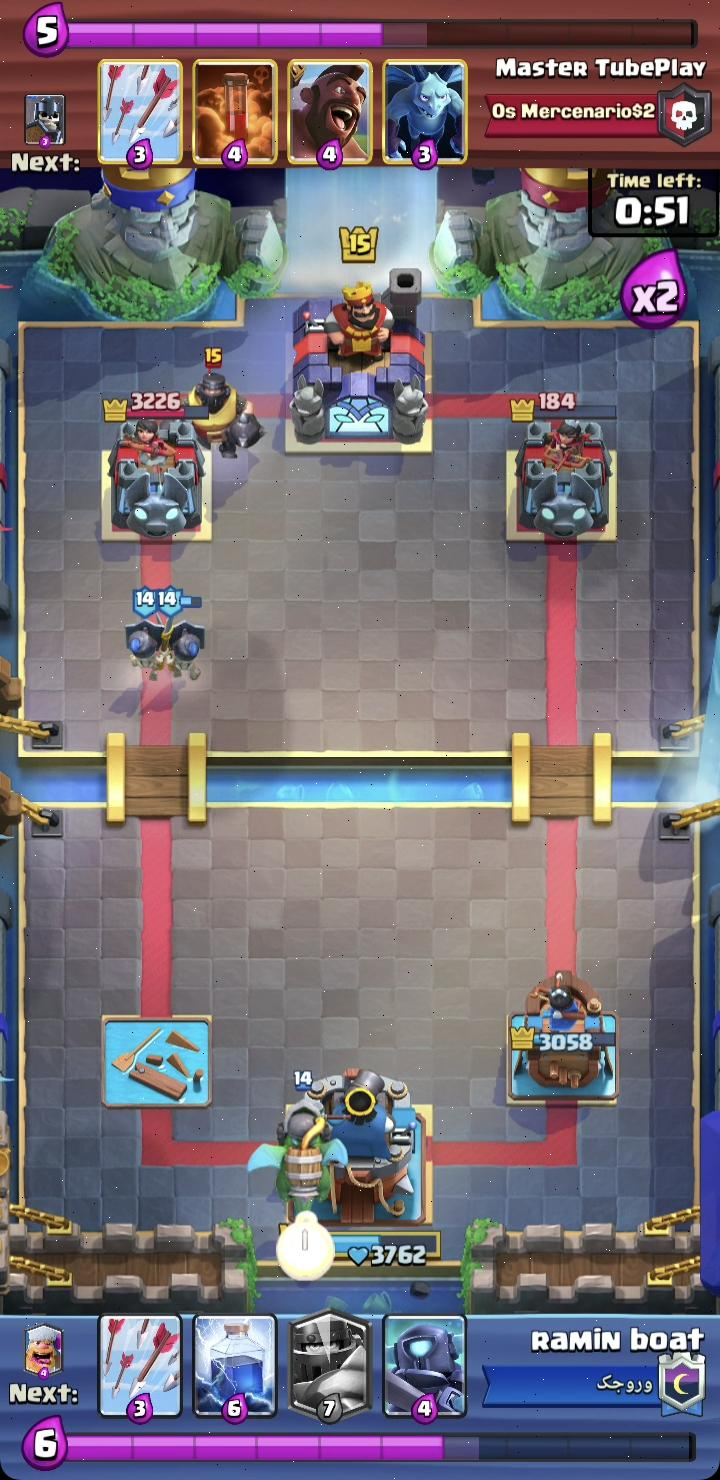EKingTower: (290, 282, 431, 446)
EMegaKnight: (189, 367, 255, 457)
EnemyPrincessTower: (516, 419, 611, 540), (110, 421, 204, 540)
OGuard: (126, 587, 170, 679), (159, 598, 203, 680)
OInfernoDrag: (263, 1071, 335, 1179)
OwnKingTower: (283, 1068, 438, 1224)
OwnPrincessTower: (508, 971, 616, 1104)
TowerDown: (102, 1017, 209, 1107)
